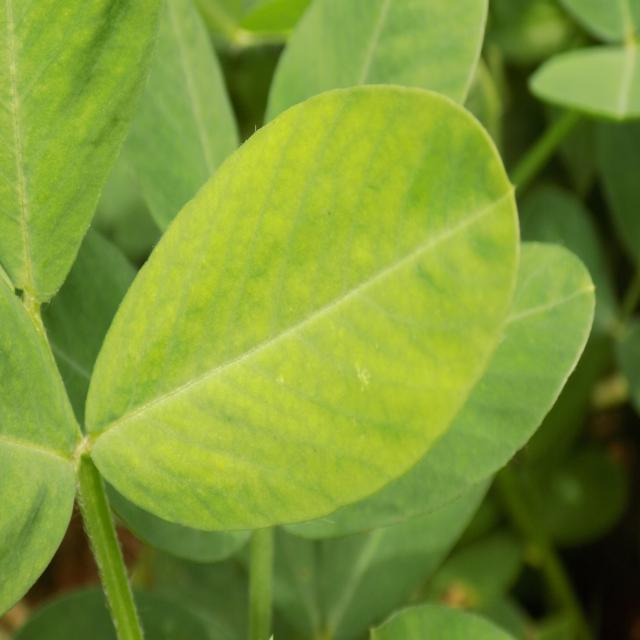Ground nut_healthy: (82, 83, 529, 524)
